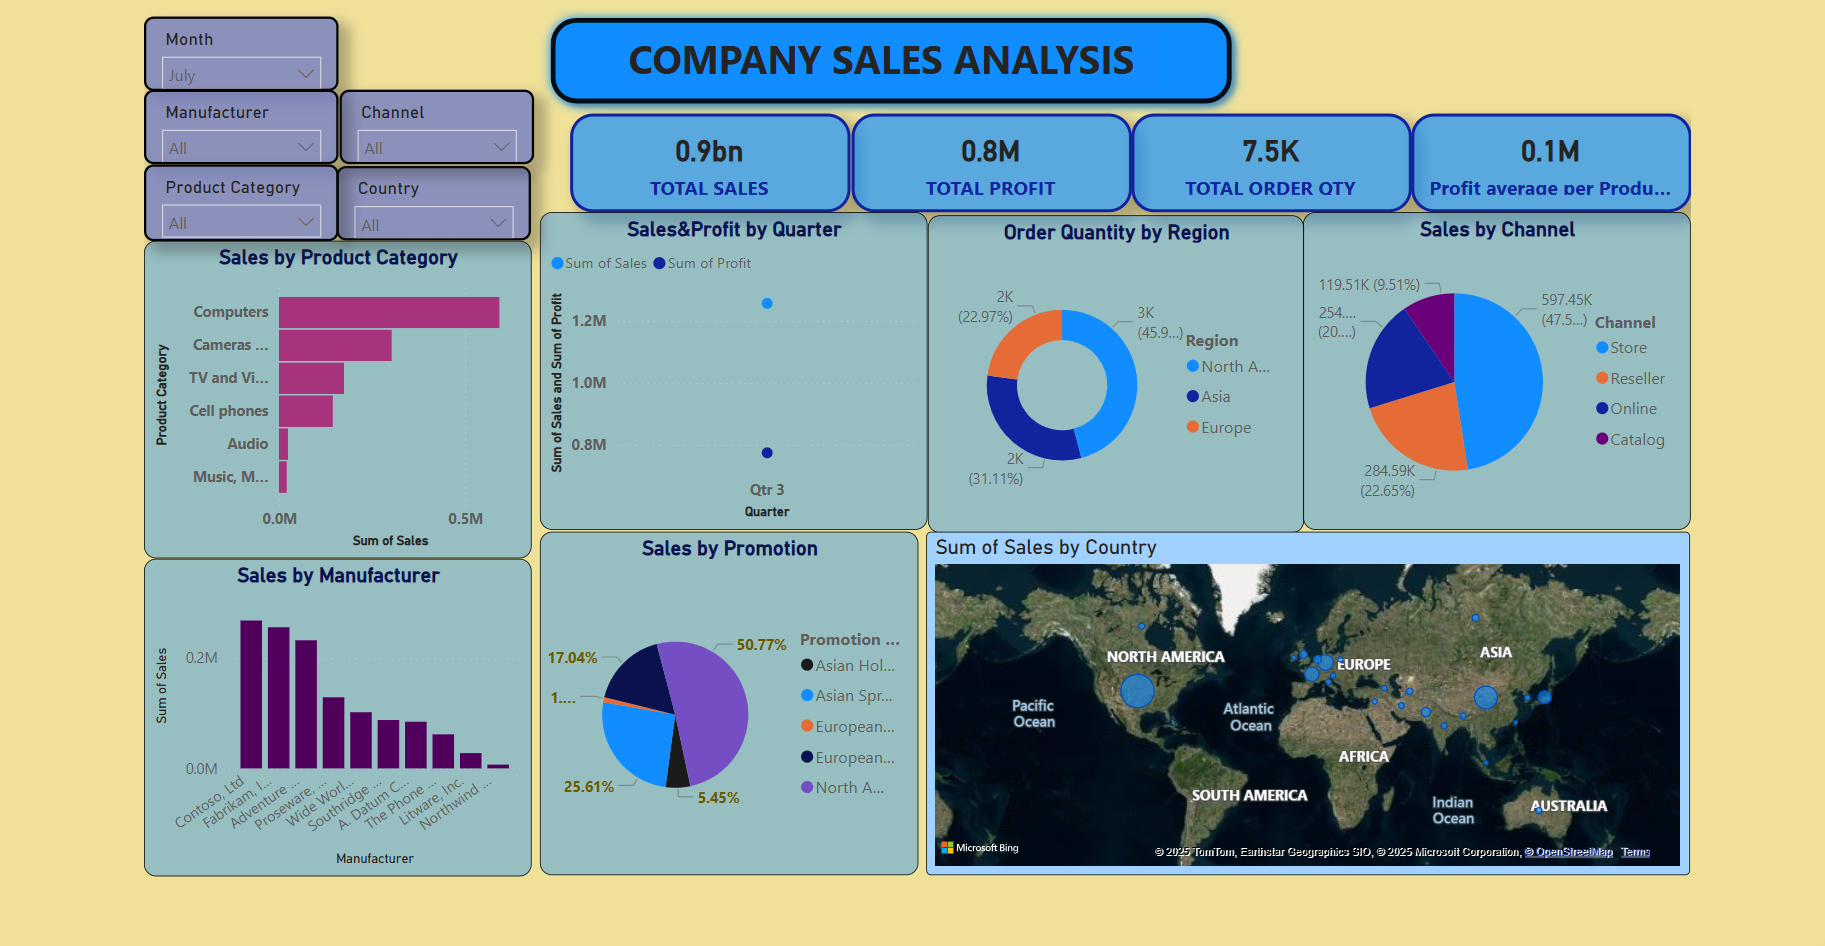

This screenshot's page, from the dashboard's own definition file:
{"tool":"powerbi","page":{"name":"2018","canvas":[1280,720],"ordinal":4},"visuals":[{"type":"shape","box":[327.9,0,581.5,88.8],"z":0,"group":"g1"},{"type":"group","id":"g1","title":"Group 1","box":[327.9,0,581.5,88.8],"z":0},{"type":"textbox","box":[396.7,16.3,443.8,52.5],"z":1000,"group":"g1"},{"type":"card","fields":{"Values":["KPIs.TOTAL SALES"]},"box":[353.2,88.8,231.9,81.5],"z":1000},{"type":"card","fields":{"Values":["KPIs.TOTAL PROFIT"]},"box":[585.1,88.8,231.9,81.5],"z":2000},{"type":"card","fields":{"Values":["KPIs.TOTAL ORDER QTY"]},"box":[816.9,88.8,231.9,81.5],"z":3000},{"type":"card","fields":{"Values":["KPIs.Profit average per Product Category"]},"box":[1048.1,88.8,231.9,81.5],"z":4000},{"type":"barChart","title":"Sales by Product Category","fields":{"Category":["COMPANY SALES DATA.Product Category"],"Y":["Sum(COMPANY SALES DATA.Sales)"]},"box":[0,193.8,320.6,262.7],"z":5000},{"type":"lineChart","title":"Sales&Profit by Quarter","fields":{"Category":["COMPANY SALES DATA.Order Date.Variation.Date Hierarchy.Quarter"],"Y":["Sum(COMPANY SALES DATA.Sales)","Sum(COMPANY SALES DATA.Profit)"]},"box":[327.9,170.3,320.6,262.7],"z":6000},{"type":"pieChart","title":"Sales by Channel","fields":{"Category":["COMPANY SALES DATA.Channel"],"Y":["Sum(COMPANY SALES DATA.Sales)"]},"box":[959.4,170.3,320.6,262.7],"z":7000},{"type":"donutChart","title":"Order Quantity by Region","fields":{"Category":["COMPANY SALES DATA.Region"],"Y":["Sum(COMPANY SALES DATA.Order Qty)"]},"box":[648.5,172.1,311.6,262.7],"z":8000},{"type":"columnChart","title":"Sales by Manufacturer","fields":{"Category":["COMPANY SALES DATA.Manufacturer"],"Y":["Sum(COMPANY SALES DATA.Sales)"]},"box":[0,456.5,320.6,262.7],"z":9000},{"type":"pieChart","title":"Sales by Promotion","fields":{"Y":["Sum(COMPANY SALES DATA.Sales)"],"Series":["COMPANY SALES DATA.Promotion Name"]},"box":[327.9,434.7,313.4,284.4],"z":10000},{"type":"slicer","fields":{"Values":["COMPANY SALES DATA.Order Date.Variation.Date Hierarchy.Month"]},"box":[0,7.2,161.2,61.6],"z":11000},{"type":"slicer","fields":{"Values":["COMPANY SALES DATA.Country"]},"box":[159.4,132.2,161.2,61.6],"z":12000},{"type":"slicer","fields":{"Values":["COMPANY SALES DATA.Channel"]},"box":[161.2,68.8,161.2,61.6],"z":13000},{"type":"slicer","fields":{"Values":["COMPANY SALES DATA.Manufacturer"]},"box":[0,68.8,161.2,61.6],"z":14000},{"type":"slicer","fields":{"Values":["COMPANY SALES DATA.Product Category"]},"box":[0,130.4,161.2,63.4],"z":15000},{"type":"map","fields":{"Category":["COMPANY SALES DATA.Country"],"Size":["Sum(COMPANY SALES DATA.Sales)"]},"box":[647.8,434.7,632.2,284.4],"z":16000}]}

Visuals, with their boxes on the page's 1280x720 design canvas (x1, y1, x2, y2). These are canvas units, not pixel positions in the 1825x946 screenshot, which may show the page scaled, cropped or inside an application window:
shape: crop(328, 0, 909, 89)
"Group 1" group: crop(328, 0, 909, 89)
textbox: crop(397, 16, 840, 69)
card - KPIs.TOTAL SALES: crop(353, 89, 585, 170)
card - KPIs.TOTAL PROFIT: crop(585, 89, 817, 170)
card - KPIs.TOTAL ORDER QTY: crop(817, 89, 1049, 170)
card - KPIs.Profit average per Product Category: crop(1048, 89, 1280, 170)
"Sales by Product Category" barChart: crop(0, 194, 321, 456)
"Sales&Profit by Quarter" lineChart: crop(328, 170, 648, 433)
"Sales by Channel" pieChart: crop(959, 170, 1280, 433)
"Order Quantity by Region" donutChart: crop(648, 172, 960, 435)
"Sales by Manufacturer" columnChart: crop(0, 456, 321, 719)
"Sales by Promotion" pieChart: crop(328, 435, 641, 719)
slicer - COMPANY SALES DATA.Order Date.Variation.Date Hierarchy.Month: crop(0, 7, 161, 69)
slicer - COMPANY SALES DATA.Country: crop(159, 132, 321, 194)
slicer - COMPANY SALES DATA.Channel: crop(161, 69, 322, 130)
slicer - COMPANY SALES DATA.Manufacturer: crop(0, 69, 161, 130)
slicer - COMPANY SALES DATA.Product Category: crop(0, 130, 161, 194)
map - COMPANY SALES DATA.Country x Sum(COMPANY SALES DATA.Sales): crop(648, 435, 1280, 719)
